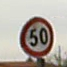limite 50: (19, 15, 53, 56)
